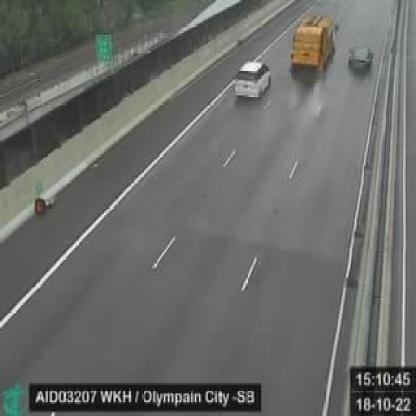Car: (234, 58, 272, 101), (347, 42, 376, 77)
Truck: (289, 12, 341, 79)
